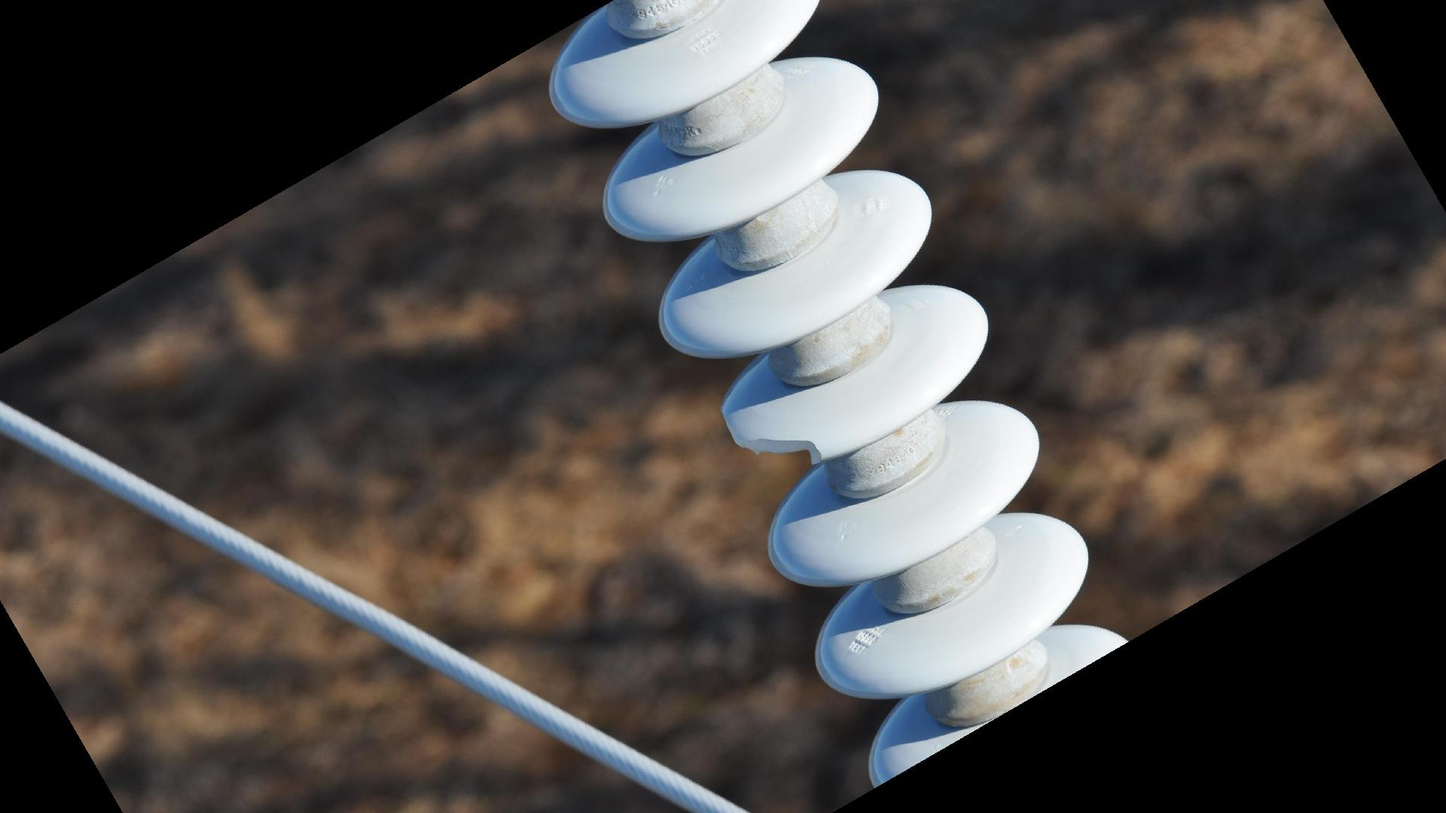insulator: (542, 1, 1132, 797)
insulator_breakage: (705, 397, 831, 474)
